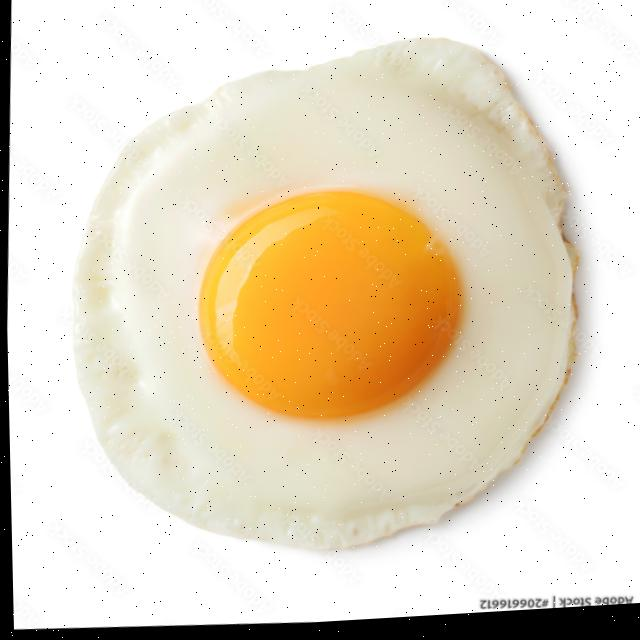Egg: (73, 44, 575, 552)
